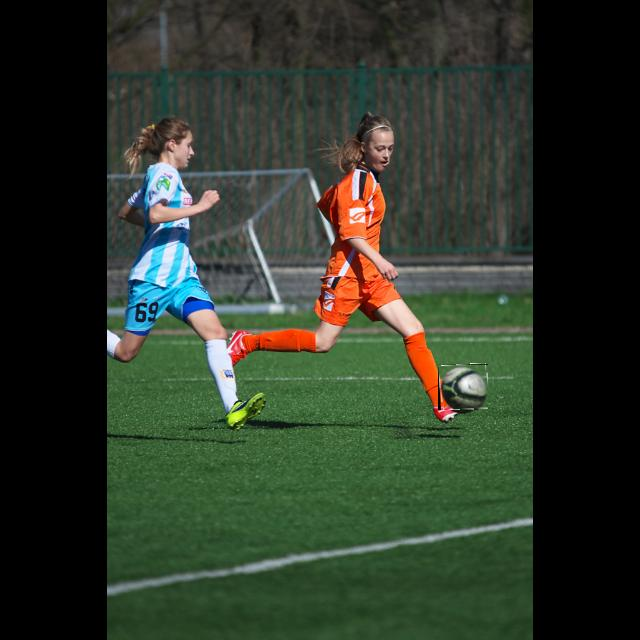Football: (438, 364, 488, 410)
